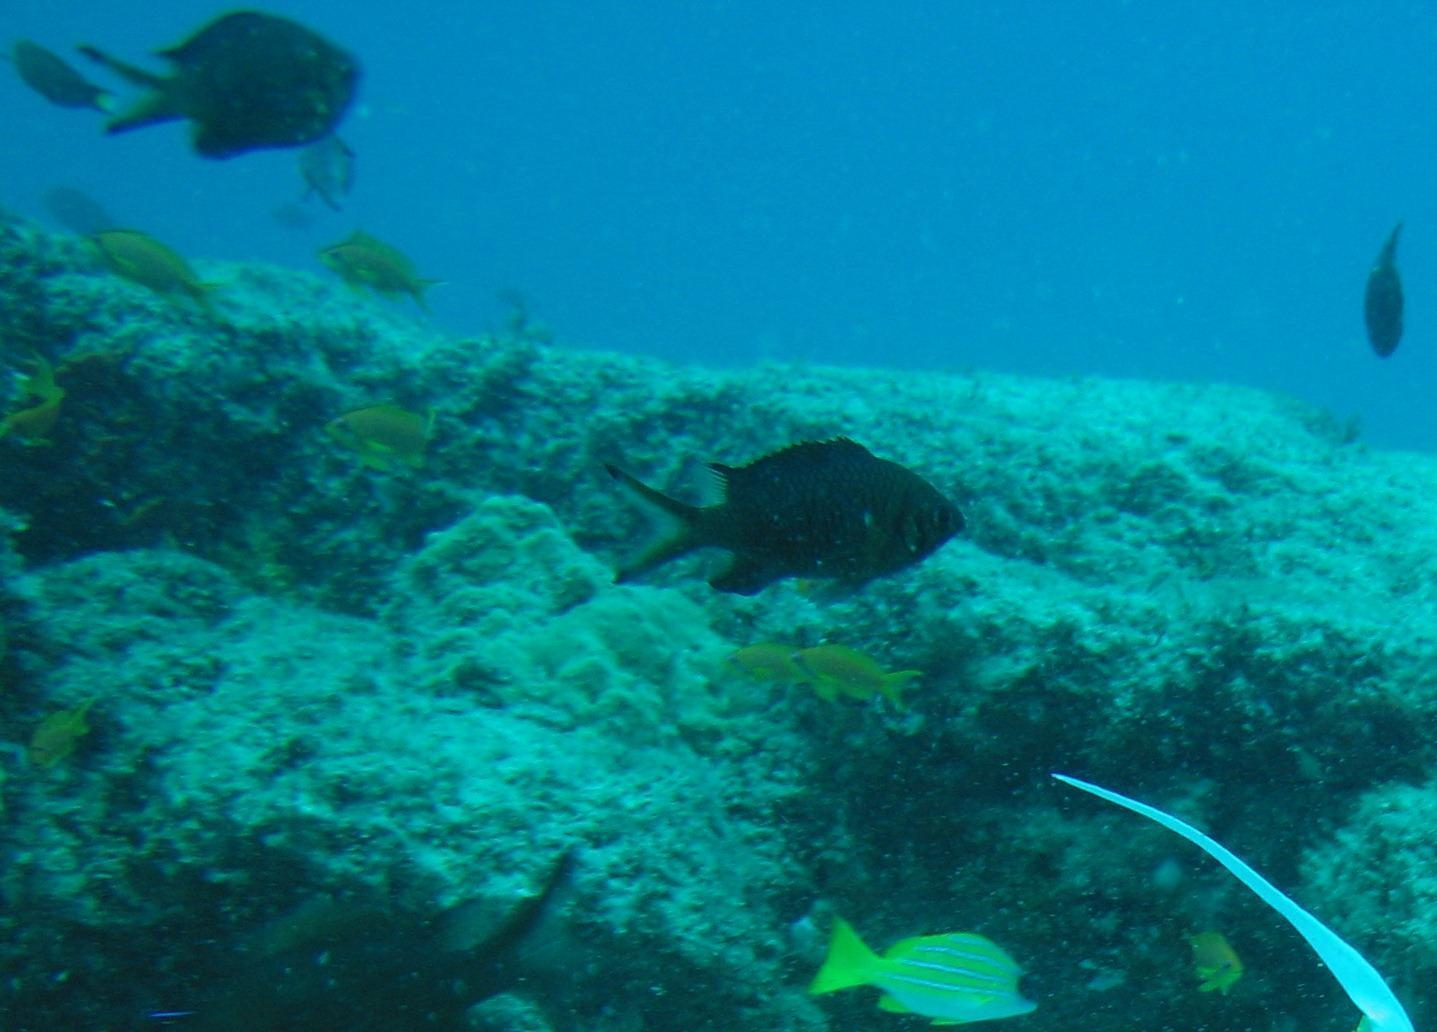Chromis weberi: (584, 425, 1047, 636), (57, 8, 392, 210)
